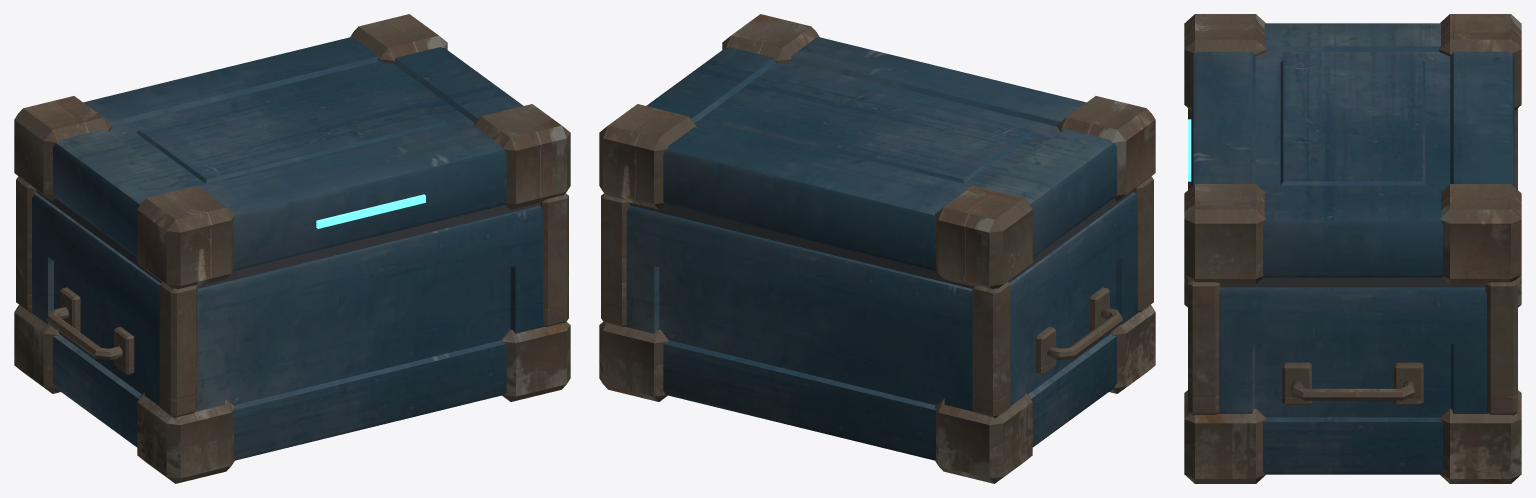
File: scifi-supply-crate_final.glb
3 views of the same model, side by side, from view 1: azimuth 30°, elevation 25°; view 2: azimuth 150°, elevation 25°; view 3: azimuth 270°, elevation 25° (orthographic). The views are drawn at different scales.
Visible parts, largest first — view 1: SM_ScifiCrate_Base, SM_ScifiCrate_Lid, SM_ScifiCrate_Corners, SM_ScifiCrate_SeamBand, SM_ScifiCrate_Handles, SM_ScifiCrate_StatusLight; view 2: SM_ScifiCrate_Base, SM_ScifiCrate_Lid, SM_ScifiCrate_Corners, SM_ScifiCrate_SeamBand, SM_ScifiCrate_Handles; view 3: SM_ScifiCrate_Lid, SM_ScifiCrate_Corners, SM_ScifiCrate_Base, SM_ScifiCrate_Handles, SM_ScifiCrate_SeamBand.
Boxes of the visible parts, <box> form: SM_ScifiCrate_Base: <box>31,192,544,460</box>; SM_ScifiCrate_Lid: <box>53,37,523,270</box>; SM_ScifiCrate_Corners: <box>14,14,570,483</box>; SM_ScifiCrate_SeamBand: <box>36,190,540,288</box>; SM_ScifiCrate_Handles: <box>47,287,134,374</box>; SM_ScifiCrate_StatusLight: <box>316,194,425,228</box>; SM_ScifiCrate_Base: <box>625,192,1138,460</box>; SM_ScifiCrate_Lid: <box>646,37,1116,271</box>; SM_ScifiCrate_Corners: <box>599,14,1155,483</box>; SM_ScifiCrate_SeamBand: <box>629,190,1133,288</box>; SM_ScifiCrate_Handles: <box>1035,287,1122,374</box>; SM_ScifiCrate_Lid: <box>1191,23,1514,277</box>; SM_ScifiCrate_Corners: <box>1184,14,1521,483</box>; SM_ScifiCrate_Base: <box>1217,287,1488,474</box>; SM_ScifiCrate_Handles: <box>1282,362,1423,404</box>; SM_ScifiCrate_SeamBand: <box>1220,277,1485,287</box>.
Size of the model in its own units: 0.9043 by 0.515 by 0.574.
4 materials, 2 textured.
